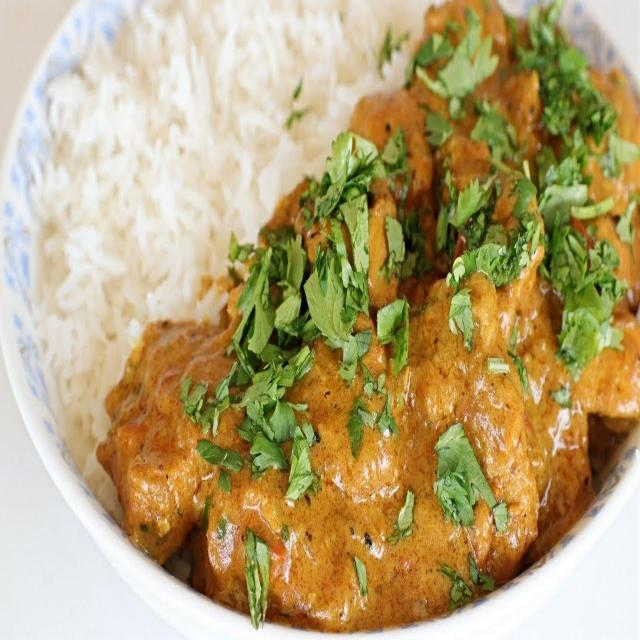chicken: (82, 3, 640, 618)
rice: (29, 0, 406, 444)
